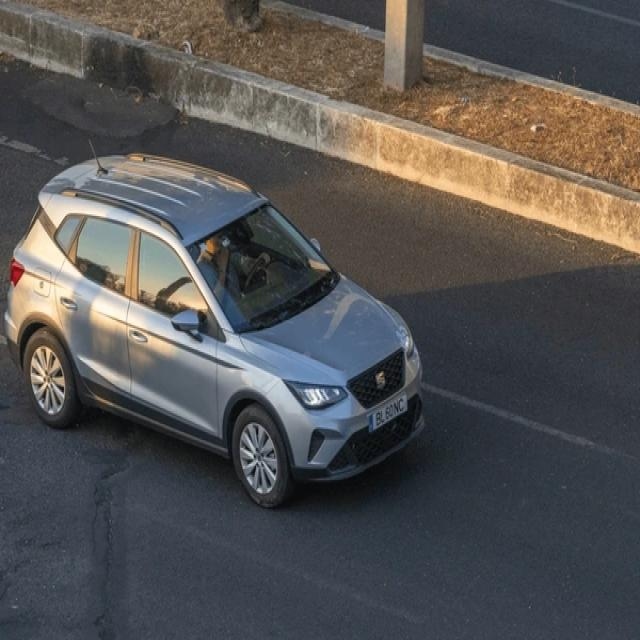seat: (373, 370, 389, 394)
